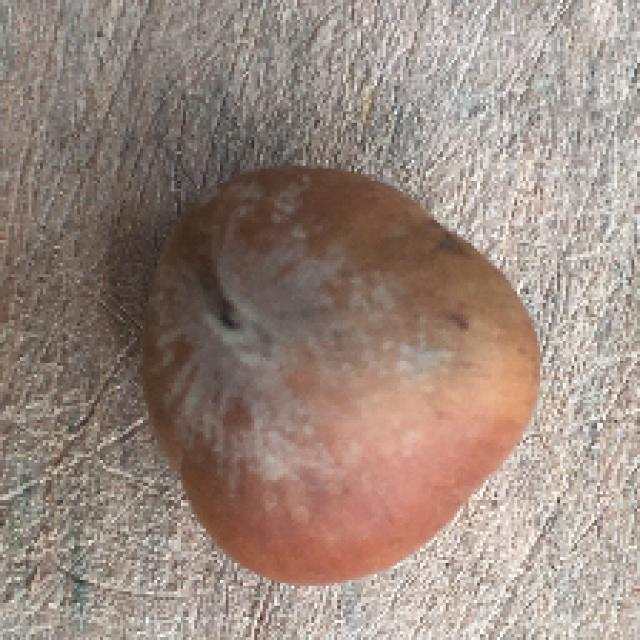damagedHazelnut: (128, 148, 548, 590)
